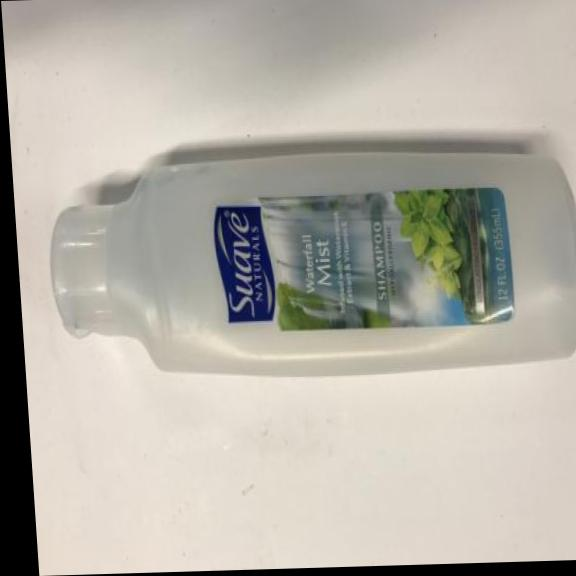Plastik: (31, 106, 576, 415)
